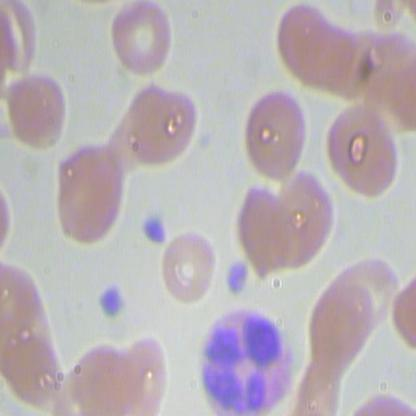Platelets: (95, 282, 130, 319), (221, 260, 250, 300), (141, 214, 169, 251)
RBC: (324, 99, 404, 205), (51, 141, 125, 249), (304, 275, 379, 377), (231, 182, 297, 281), (244, 88, 311, 183), (128, 80, 201, 167), (2, 66, 73, 152), (155, 230, 222, 309), (109, 1, 176, 80), (69, 336, 136, 415)
WBC: (195, 306, 298, 415)
